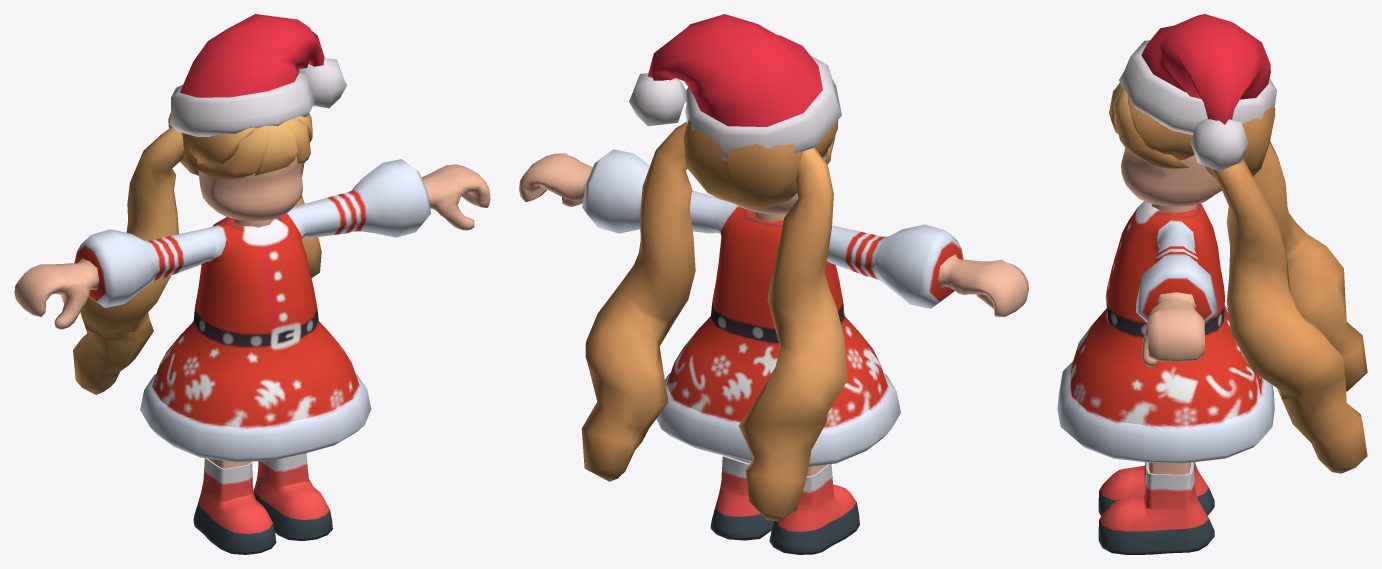
The model's file is Snow_character.fbx.
The picture shows the model from 3 angles, left to right: view 1: azimuth 30°, elevation 25°; view 2: azimuth 150°, elevation 25°; view 3: azimuth 270°, elevation 25°; orthographic projection. The views are drawn at different scales.
Visible parts, largest first — view 1: Snow_character; view 2: Snow_character; view 3: Snow_character.
Boxes of the visible parts, x1,y1,x2,y2 form: Snow_character: (14, 14, 490, 554); Snow_character: (519, 14, 1028, 554); Snow_character: (1057, 14, 1367, 554).
Size of the model in its own units: 257 by 259 by 140.
